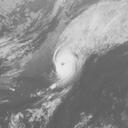cyclone: (54, 47, 79, 82)
